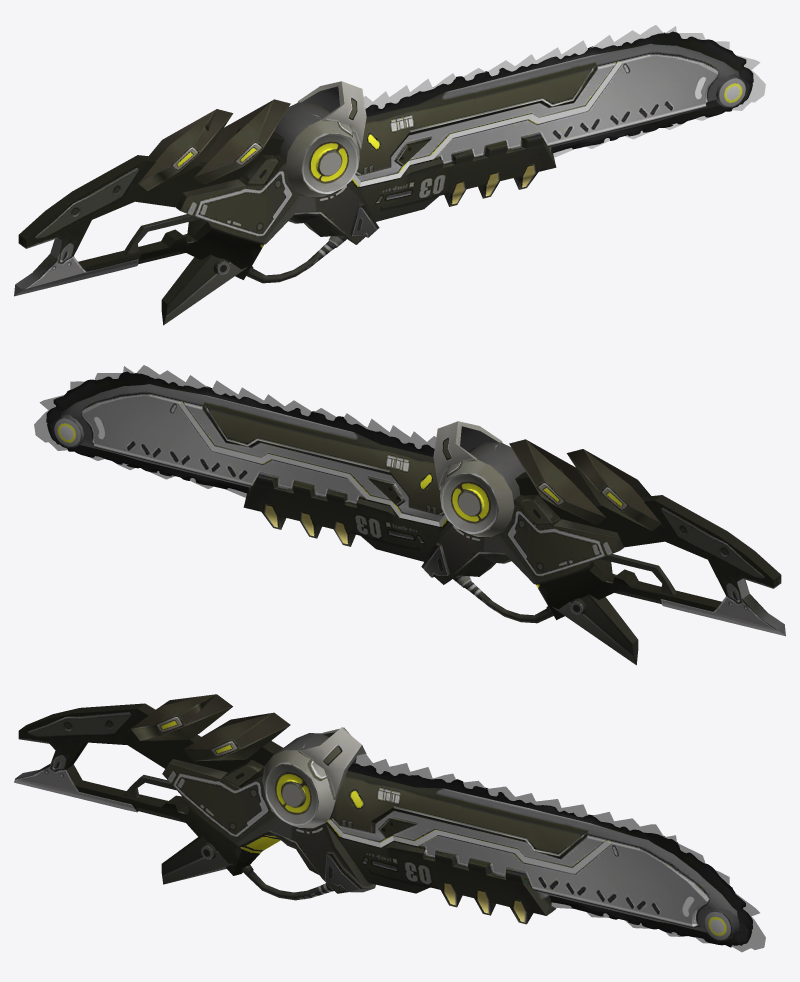
File: E3SawMd080011.fbx
The picture shows the model from 3 angles, top to bottom: view 1: azimuth 30°, elevation 25°; view 2: azimuth 150°, elevation 25°; view 3: azimuth 330°, elevation 25°; orthographic projection.
Visible parts, largest first — view 1: E3SawMd0800111, E3SawMd0800112, FxWeaponSaw62Wuqi01; view 2: E3SawMd0800111, E3SawMd0800112, FxWeaponSaw62Wuqi01; view 3: E3SawMd0800111, E3SawMd0800112, FxWeaponSaw62Wuqi01.
Boxes of the visible parts, box(x1,y1,x2,y2) form: E3SawMd0800111: box(14, 43, 746, 325); E3SawMd0800112: box(365, 31, 753, 153); FxWeaponSaw62Wuqi01: box(353, 25, 765, 186); E3SawMd0800111: box(53, 384, 785, 665); E3SawMd0800112: box(46, 371, 434, 493); FxWeaponSaw62Wuqi01: box(34, 365, 446, 526); E3SawMd0800111: box(14, 694, 739, 941); E3SawMd0800112: box(347, 763, 752, 947); FxWeaponSaw62Wuqi01: box(328, 753, 765, 952).
Size of the model in its own units: 1.11 by 0.28 by 0.1027.
4 materials, 3 textured.
